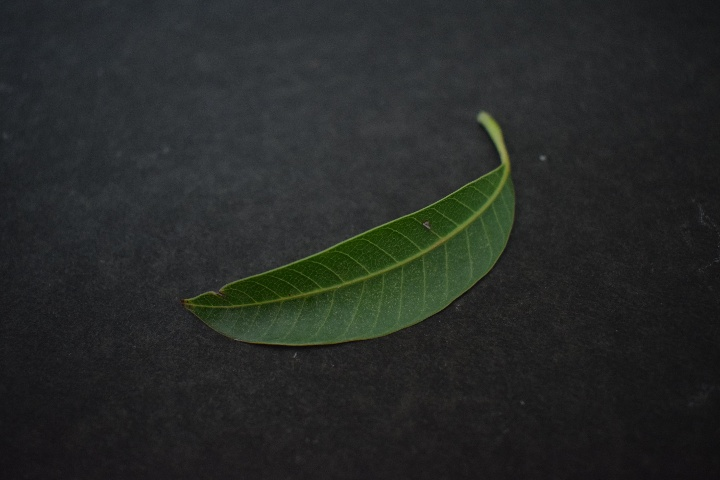healthy: (184, 162, 540, 352)
